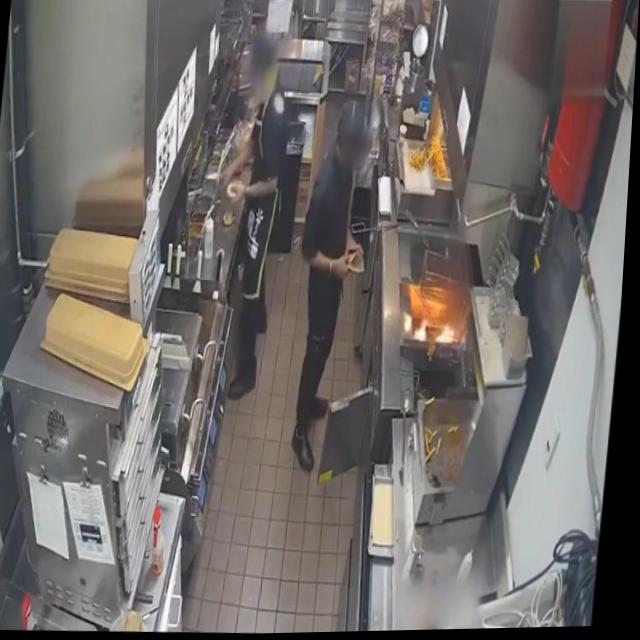fire: (417, 319, 436, 345), (440, 326, 463, 344)
